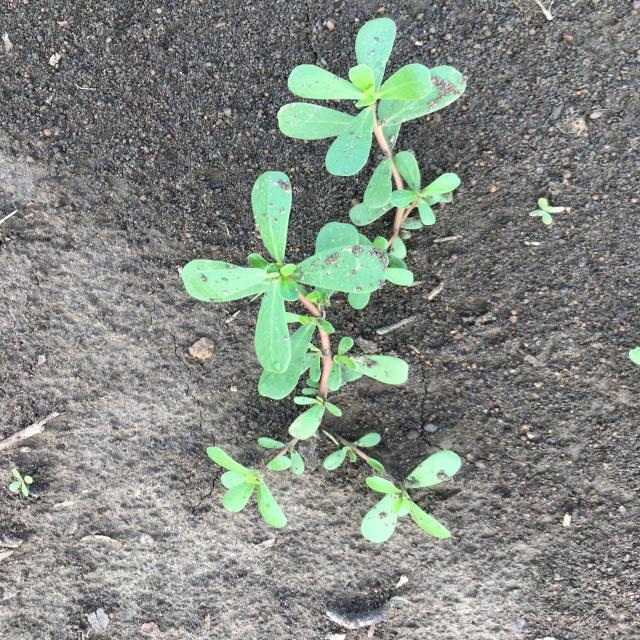Purslane: (181, 171, 461, 543), (278, 17, 467, 309)
